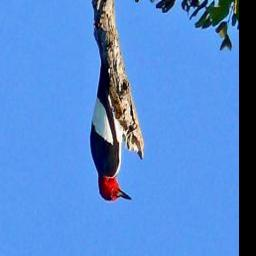Woodpecker: (79, 28, 138, 215)
